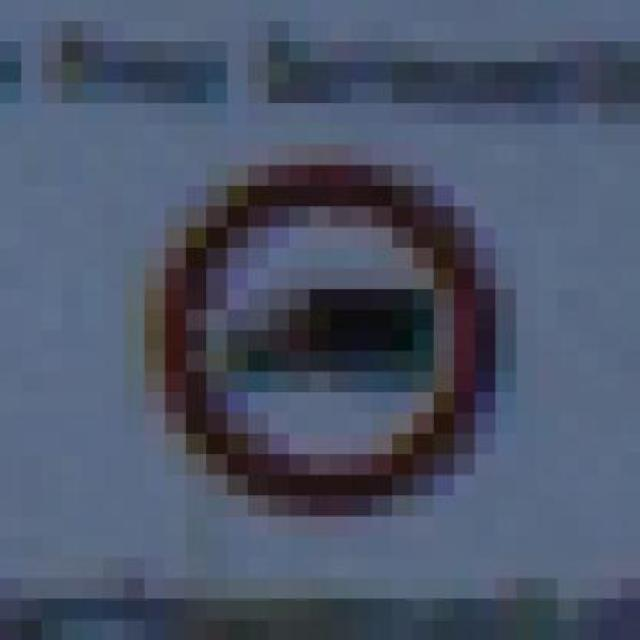Truck traffic is prohibited: (124, 148, 516, 520)
